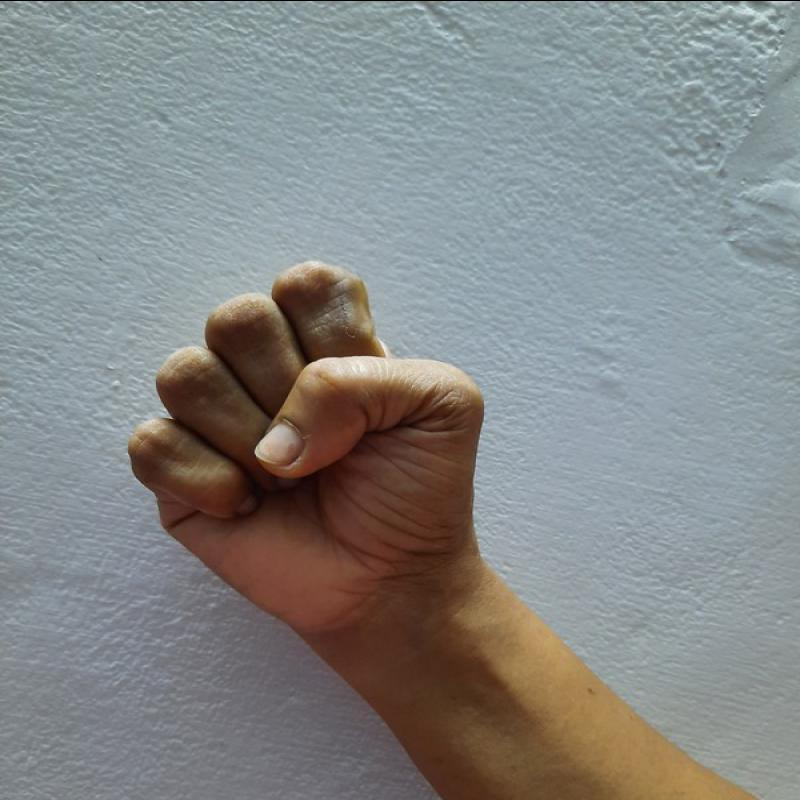Mushti: (101, 237, 497, 635)
